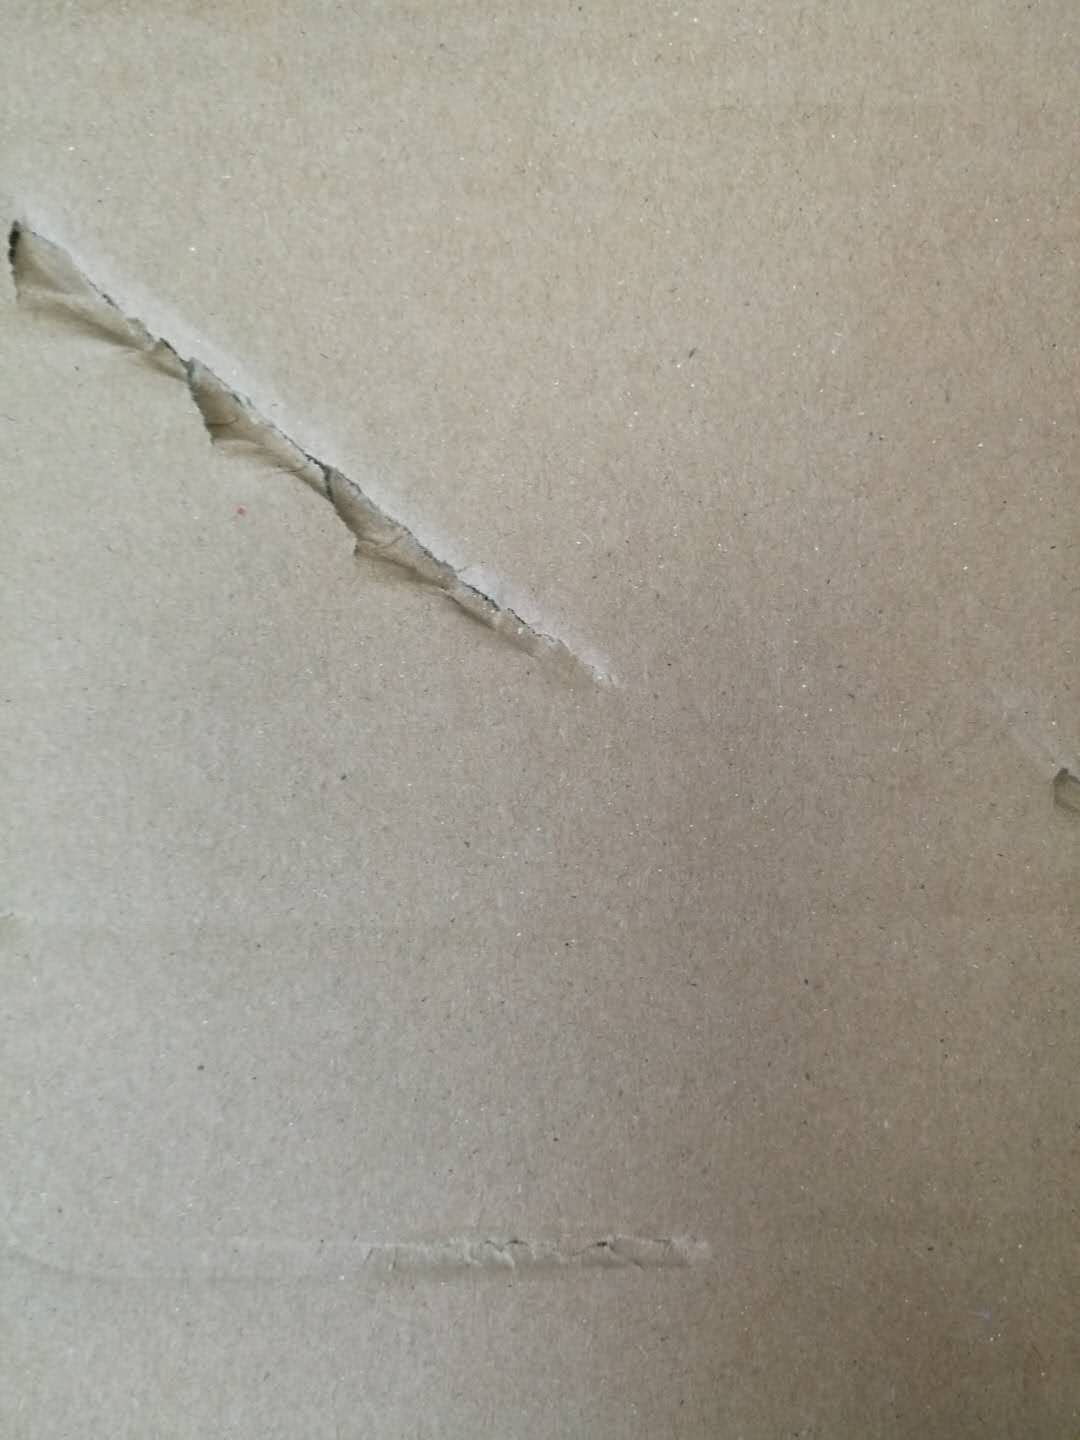defect: (2, 153, 674, 742), (2, 1162, 773, 1335), (1016, 742, 1080, 835)
